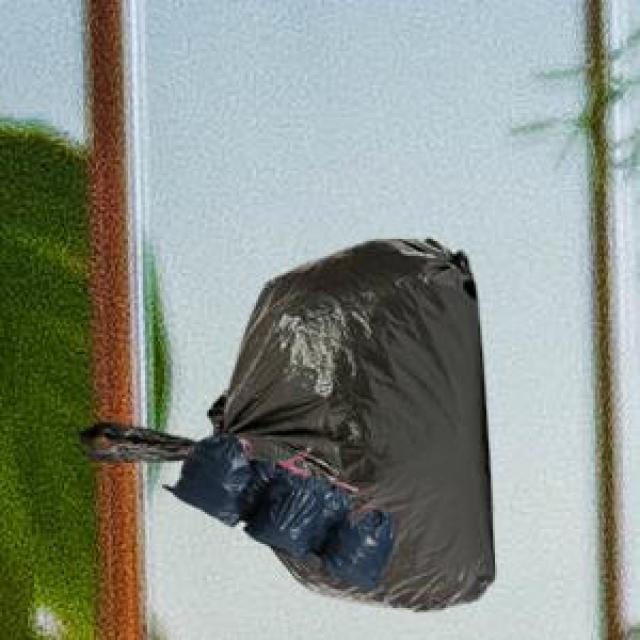miscellaneous trash: (73, 235, 491, 606), (160, 431, 390, 587)
